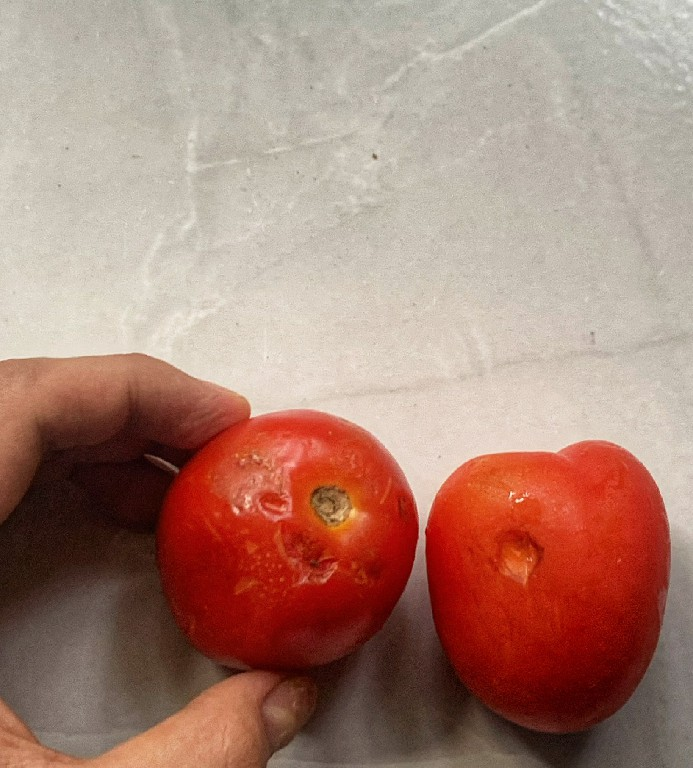NG: (431, 436, 672, 744), (155, 408, 418, 675)
